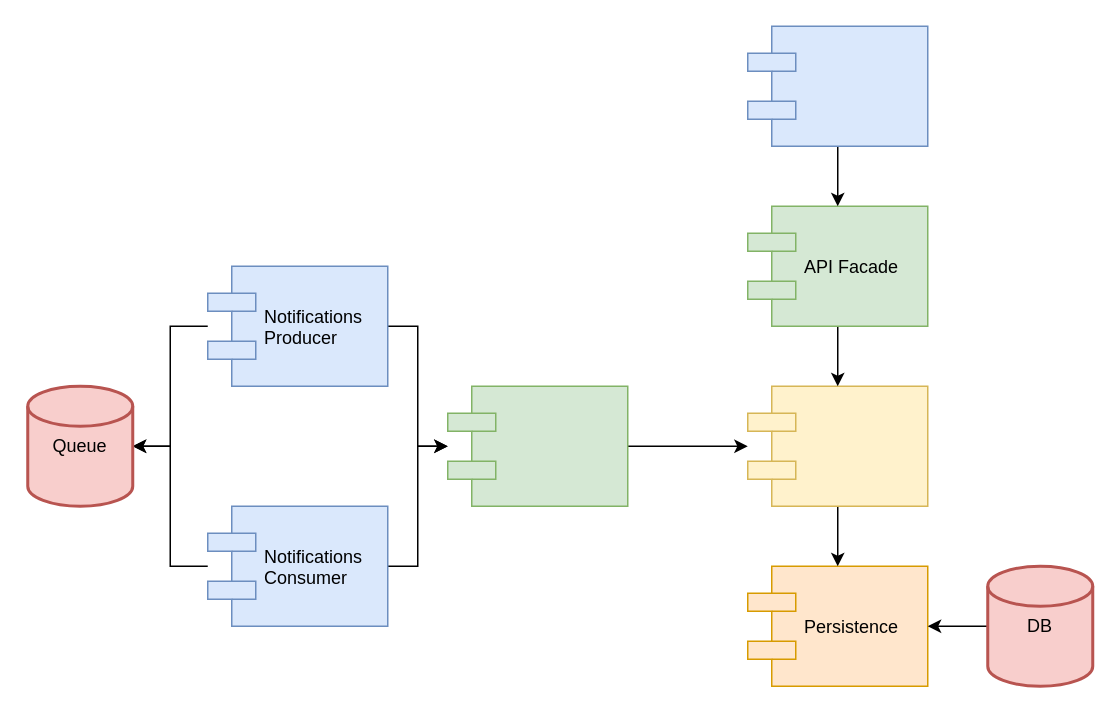
Image size: 1119x714. Some labels were removed from this diagram. The shapes that lost their labels are listed below. From the top down, each one's box as (x1, y1, x2, y2) in pixels, then its label:
(746, 25, 928, 146): API Rest
(446, 385, 628, 506): Notifications Facade
(746, 385, 928, 506): Service
